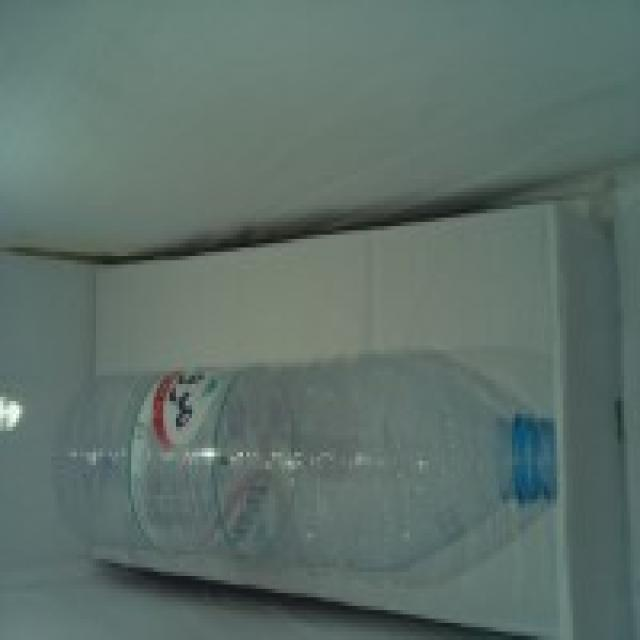plastic_bottle: (58, 354, 560, 571)
